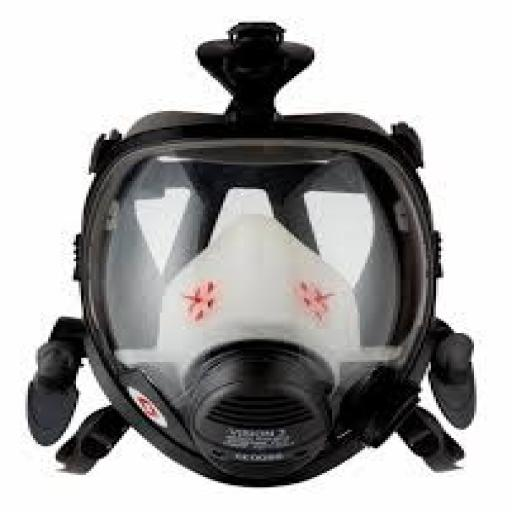mask: (8, 14, 490, 491)
